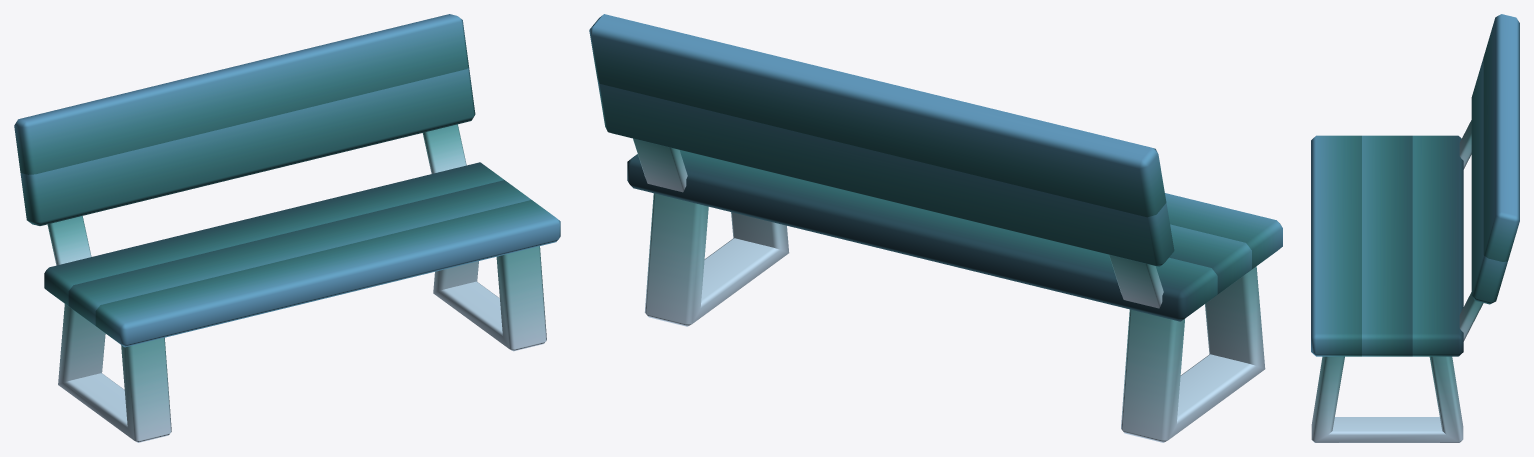
File: SM_Bench.fbx
The picture shows the model from 3 angles, left to right: view 1: azimuth 30°, elevation 25°; view 2: azimuth 150°, elevation 25°; view 3: azimuth 270°, elevation 25°; orthographic projection. The views are drawn at different scales.
Parts seen in each view (by area): view 1: SM_Bench; view 2: SM_Bench; view 3: SM_Bench.
Part boxes in pixels (x1,y1,x2,y2): SM_Bench: (14, 14, 560, 442); SM_Bench: (589, 14, 1282, 442); SM_Bench: (1311, 14, 1519, 442).
Size of the model in its own units: 226 by 123 by 98.53.
